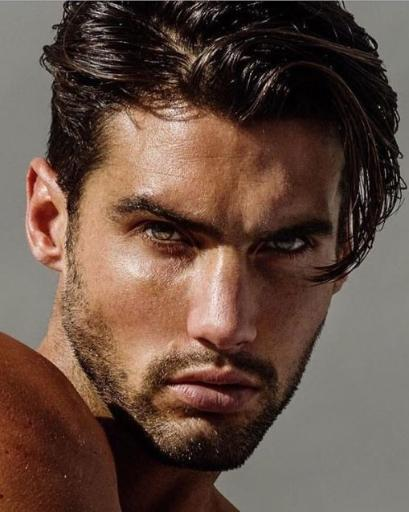left_eye: (255, 229, 320, 260)
left_lip_corner: (249, 378, 264, 396)
right_eye: (127, 217, 203, 252)
right_lip_corner: (162, 371, 188, 397)
